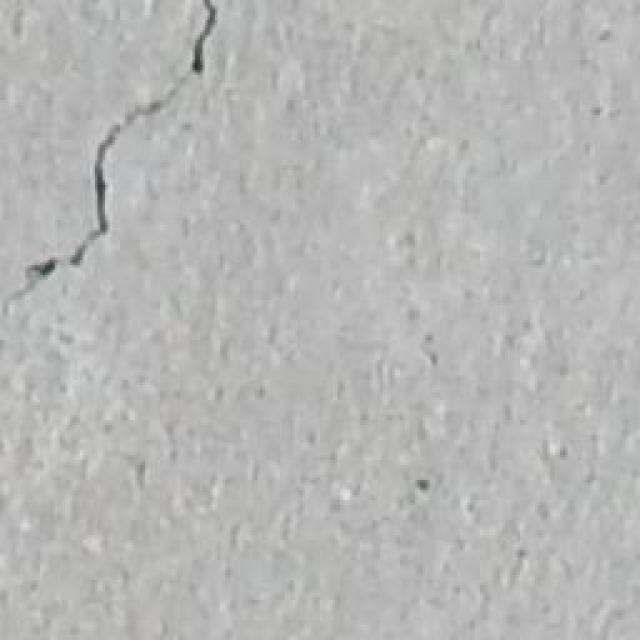concrete-crack: (5, 5, 222, 322)
